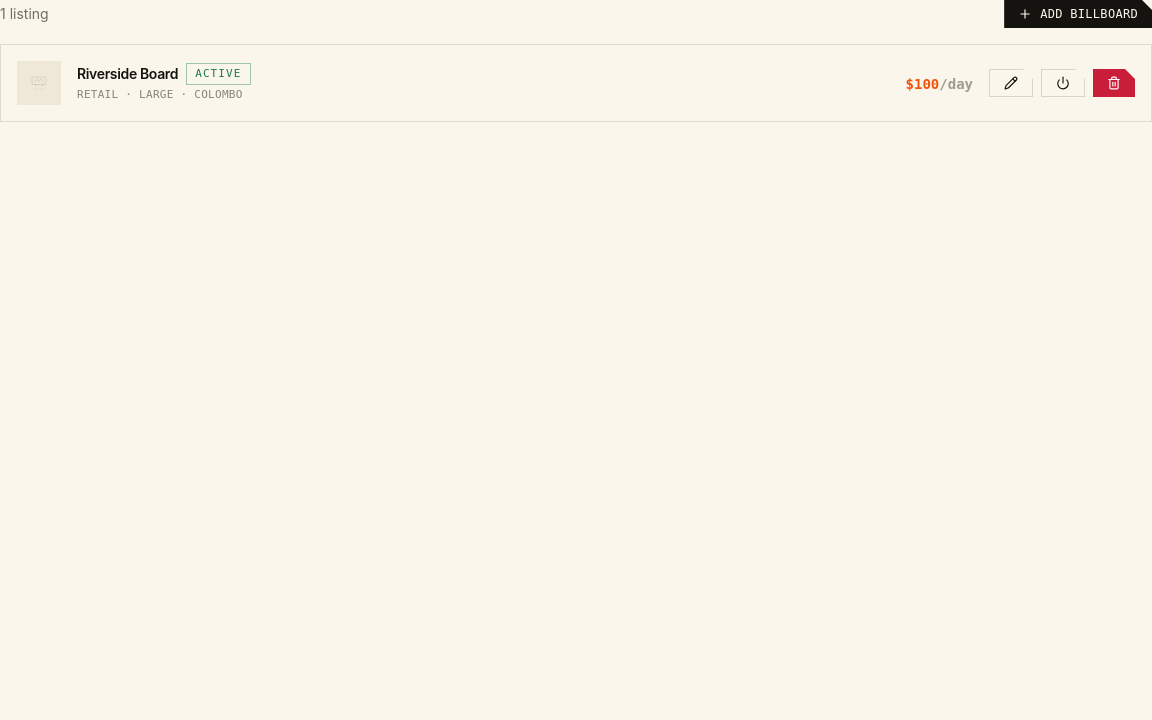
Test: MyBillboardsPanel › suggests archiving when a hard delete hits the bookings FK (23503)
Click the button named "Archive or delete Riverside Board" at (1114, 83), box [1093,69,1135,97]
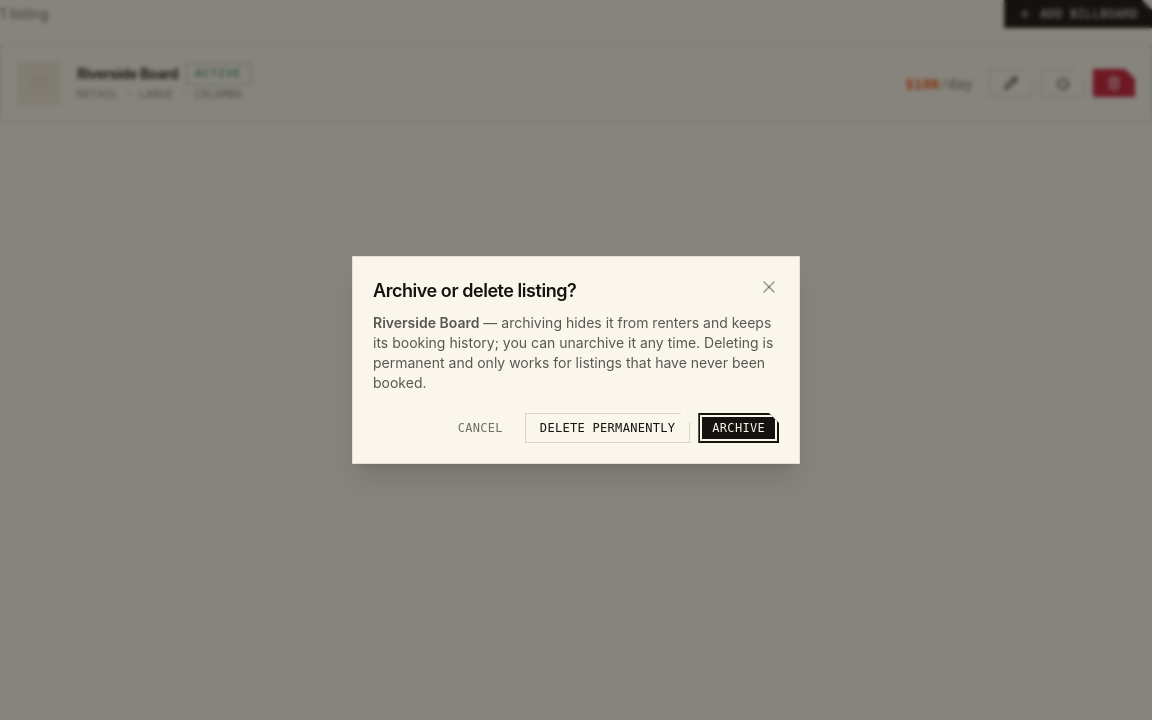
Click the button "Delete permanently" at (608, 428), box [525,413,690,443]
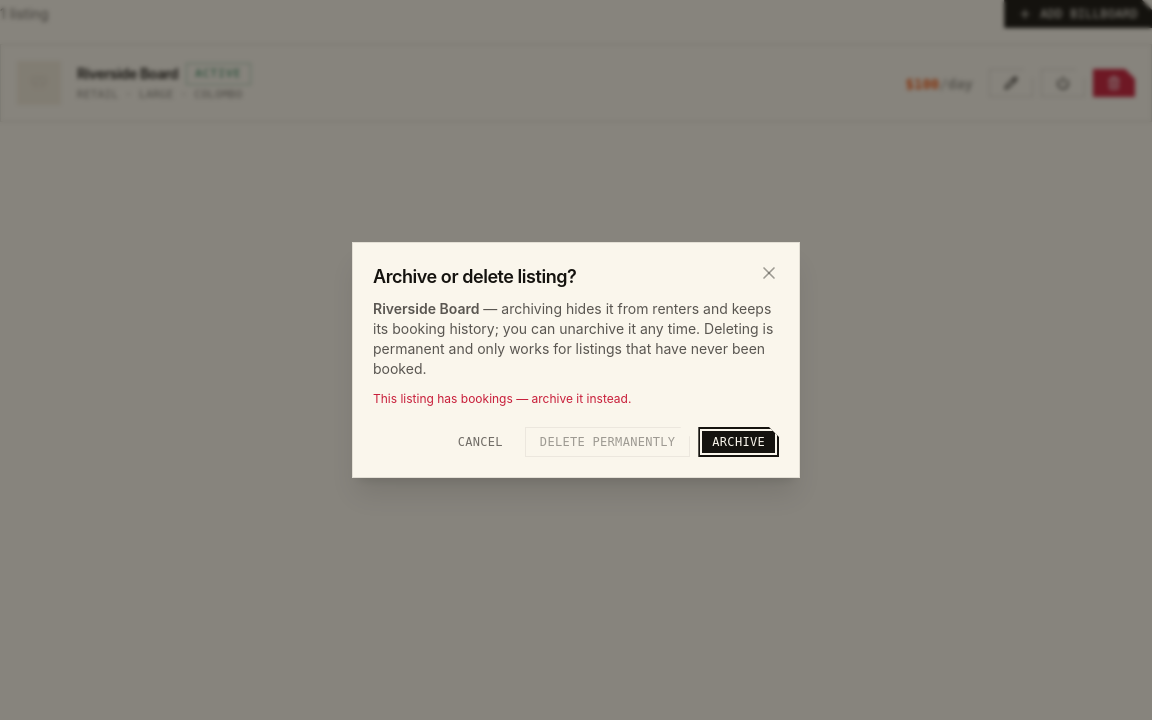
Now the button "Archive" is enabled, box [698,427,779,457]
Now the message reads "This listing has bookings — archive it instead.", box [373,391,631,406]
Now the button "Delete permanently" is disabled, box [525,427,690,457]
